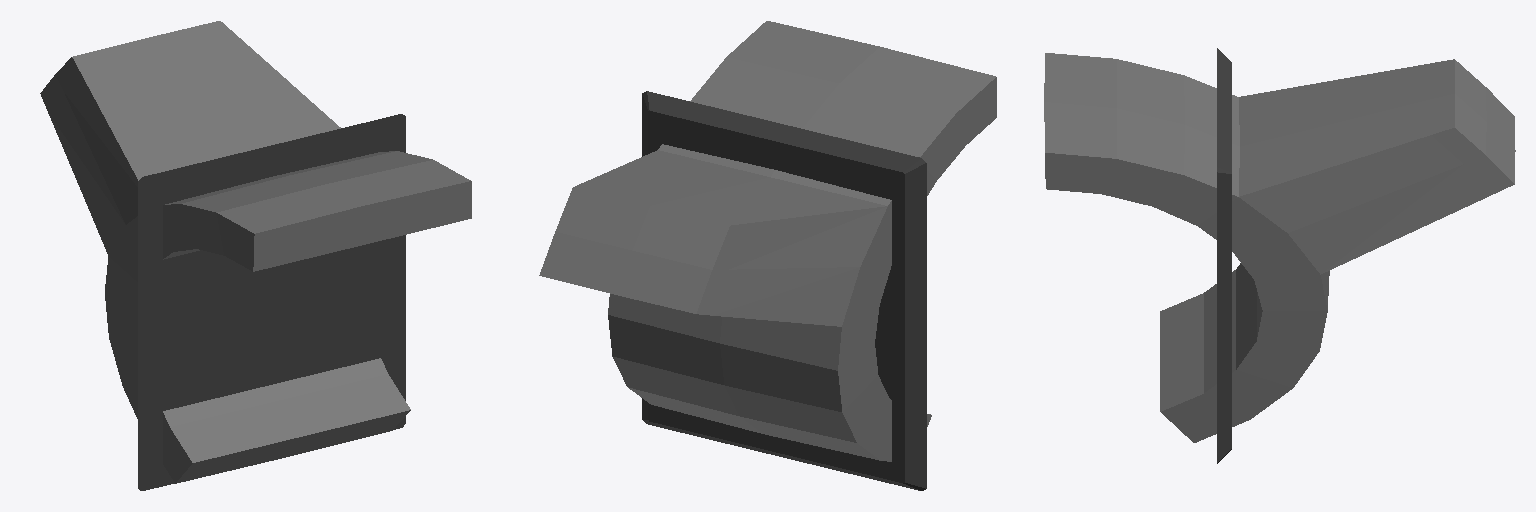
The robot description file, URDF, robot "switch.urdf":
<?xml version="1.0" ?>

<robot name="switch.urdf">
  <material name="Dark Grey">
    <color rgba=".3 .3 .3 1"/>
  </material>
  <material name="Light Grey">
    <color rgba=".5 .5 .5 1"/>
  </material>
  <link name="case_link">
    <inertial>
      <mass value="5"/>
      <inertia ixx="1" ixy="0" ixz="0" iyy="1" iyz="0" izz="1"/>
    </inertial>
    <visual>
      <origin xyz="0 0 0" rpy = "0 0 0"/>
      <geometry>
			  <mesh filename="case1.obj" scale="1 1 .75"/>
      </geometry>
      <material name="Dark Grey"/>
    </visual>
    <collision>
      <origin xyz="0 0 0" rpy = "0 0 0"/>
      <geometry>
			  <mesh filename="case1.obj" scale="1 1 .75"/>
      </geometry>
    </collision>
    
  </link>
  <link name="button_link">
    <inertial>
      <mass value="5"/>
      <inertia ixx="1" ixy="0" ixz="0" iyy="1" iyz="0" izz="1"/>
    </inertial>
    <visual>
      <origin xyz="0 .27 0" rpy="0 0 0"/>
      <geometry>
			  <mesh filename="switch.obj" scale="5 5 3"/>
      </geometry>
      <material name="Light Grey"/>
    </visual>
    <collision>
      <origin xyz="0 .27 0" rpy="0 0 0"/>
      <geometry>
			  <mesh filename="switch.obj" scale="5 5 3"/>
      </geometry>
    </collision>
  </link>
  <joint name="hinge" type="revolute">
      <parent link="case_link"/>
      <child link="button_link"/>
      <origin xyz="0 -.3 0" rpy="0 0 0"/>
      <axis xyz="1 0 0"/>
      <limit lower="-1" upper=".1" effort="100" velocity="100"/>
  </joint>
</robot>

--- Facts derived from the render (not from the file) ---
The picture shows the robot from 3 angles, left to right: view 1: azimuth 30°, elevation 25°; view 2: azimuth 150°, elevation 25°; view 3: azimuth 270°, elevation 25°; orthographic projection.
Model switch.urdf with 2 links and 1 joints (1 revolute), rooted at case_link, posed all joints at 0.
Links seen in each view (by area): view 1: button_link, case_link; view 2: button_link, case_link; view 3: button_link, case_link.
Boxes of the visible links, <box> form: button_link: <box>40,21,471,483</box>; case_link: <box>138,114,405,490</box>; button_link: <box>539,21,996,461</box>; case_link: <box>642,91,926,490</box>; button_link: <box>1044,53,1515,442</box>; case_link: <box>1217,48,1231,463</box>.
Size in the robot's own frame: 1.27 by 2.04 by 1.49 metres.
Meshes: 2 distinct files referenced, 2 mesh visuals loaded (2 OBJ).
